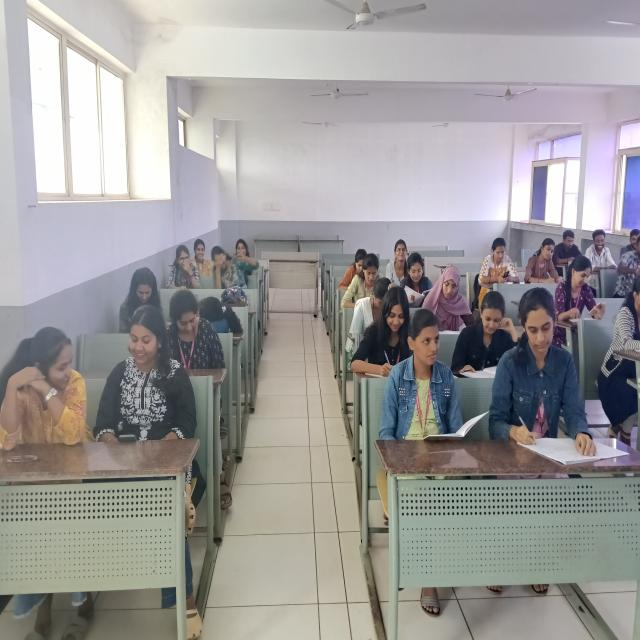Reading: (370, 301, 491, 443), (455, 292, 512, 377), (426, 266, 475, 327), (400, 251, 436, 301)
Sleeping: (194, 290, 244, 338)
Using Phone: (92, 302, 198, 443), (163, 286, 227, 370), (555, 252, 608, 321), (476, 234, 524, 294), (207, 243, 263, 294)
Writing: (492, 286, 618, 458), (356, 290, 412, 373), (523, 236, 566, 286)
